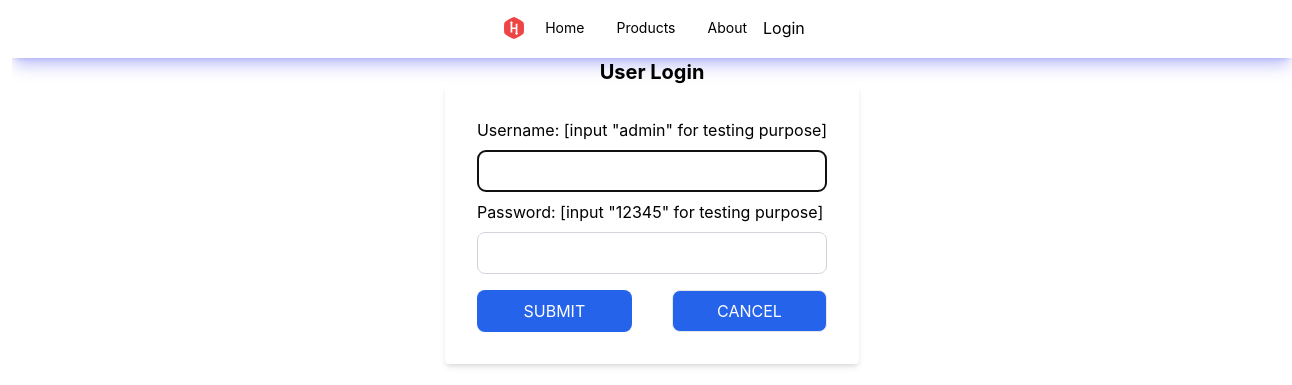
it: Login component tests › should submit the form, display the success message, and display user name on Navigation Header Bar
Type "admin" into the field labelled "Username" at (652, 171), box [477,150,827,192]
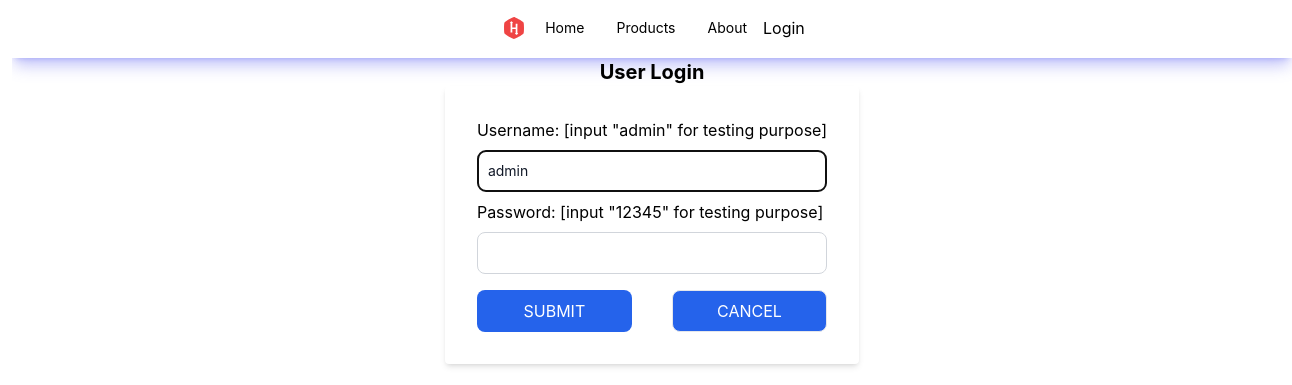
Type "12345" into the password field labelled "Password" at (652, 253), box [477,232,827,274]
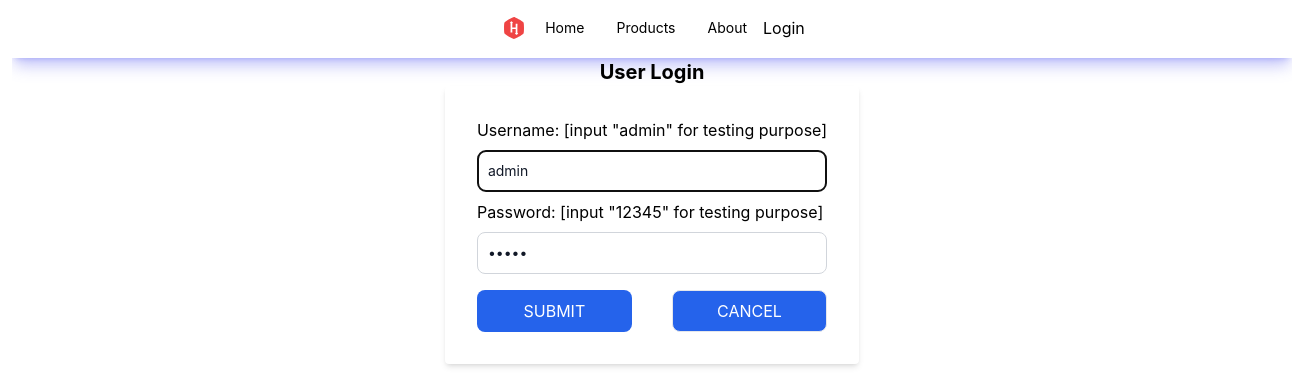
Click the button "SUBMIT" at (554, 311), box [477,290,632,332]
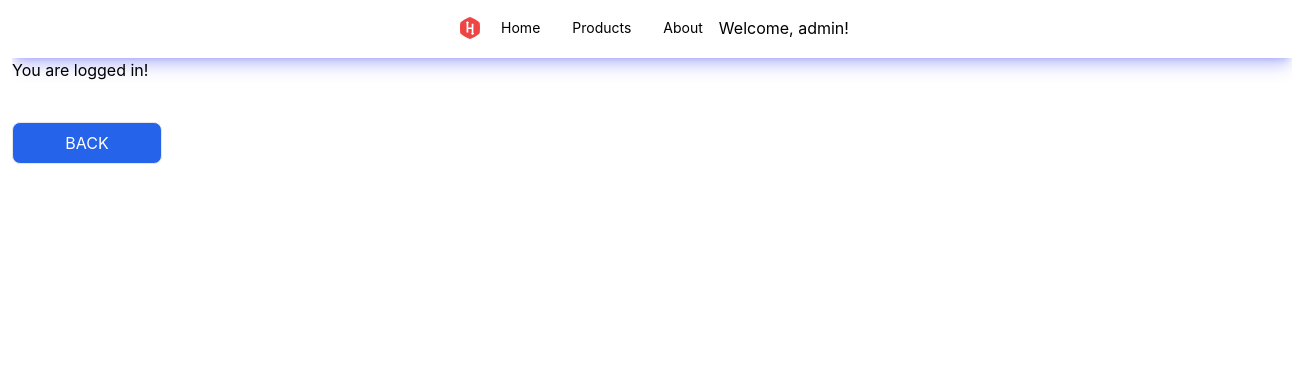
Now the heading "You are logged in!" is shown, box [12,60,148,80]
Now the text "Welcome, admin!" is shown, box [719,16,849,40]
